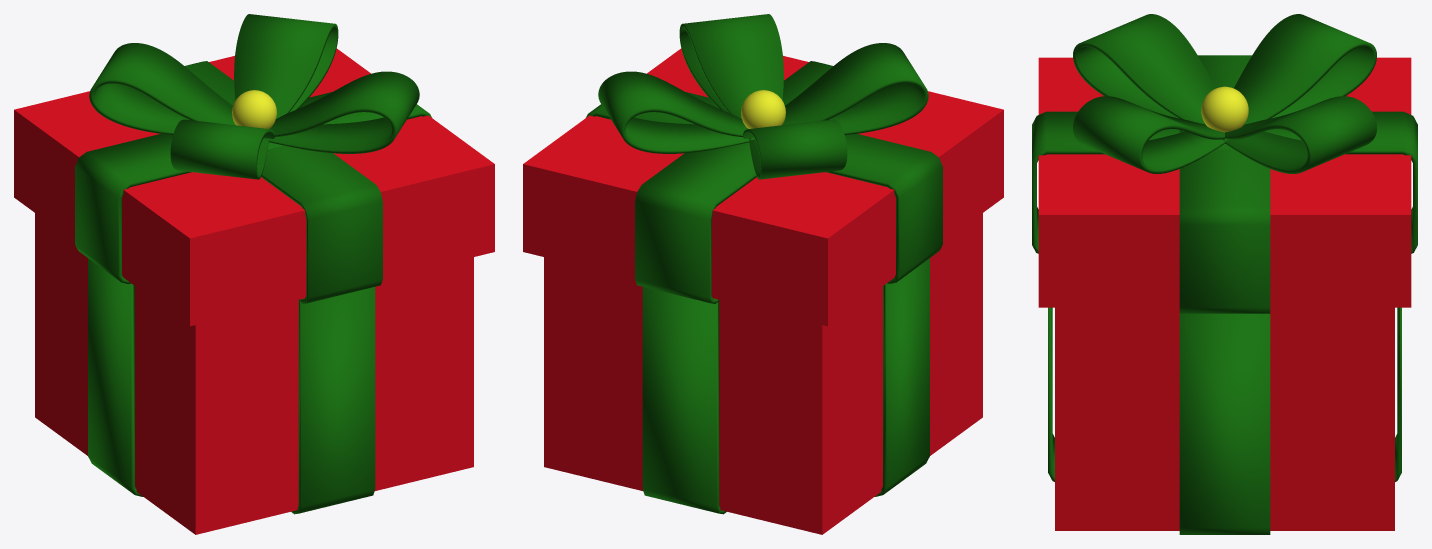
File: large1.fbx
3 views of the same model, side by side, from view 1: azimuth 30°, elevation 25°; view 2: azimuth 150°, elevation 25°; view 3: azimuth 270°, elevation 25° (orthographic). The views are drawn at different scales.
Visible parts, largest first — view 1: Cube, Cube.001, NURBSパス, 球; view 2: Cube, Cube.001, NURBSパス, 球; view 3: Cube, Cube.001, NURBSパス, 球.
Boxes of the visible parts, left/top/right/bottom form: Cube: left=14, top=48, right=494, bottom=534; Cube.001: left=75, top=61, right=431, bottom=514; NURBSパス: left=89, top=14, right=419, bottom=179; 球: left=232, top=90, right=276, bottom=128; Cube: left=523, top=48, right=1003, bottom=534; Cube.001: left=586, top=61, right=942, bottom=514; NURBSパス: left=598, top=14, right=928, bottom=179; 球: left=741, top=90, right=785, bottom=128; Cube: left=1038, top=57, right=1411, bottom=530; Cube.001: left=1032, top=55, right=1417, bottom=534; NURBSパス: left=1073, top=14, right=1376, bottom=173; 球: left=1201, top=86, right=1248, bottom=132.
Bounding box in the file's own units: 96.39 × 109 × 96.39.
